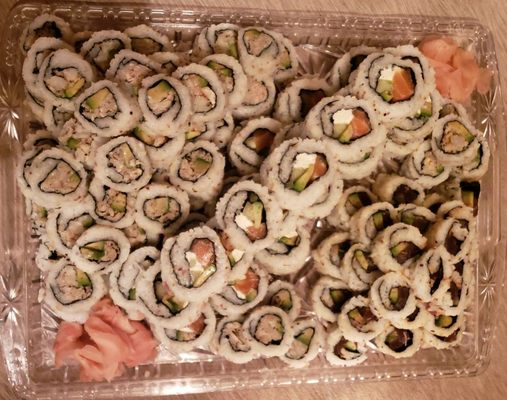sandwich: (2, 16, 507, 387)
